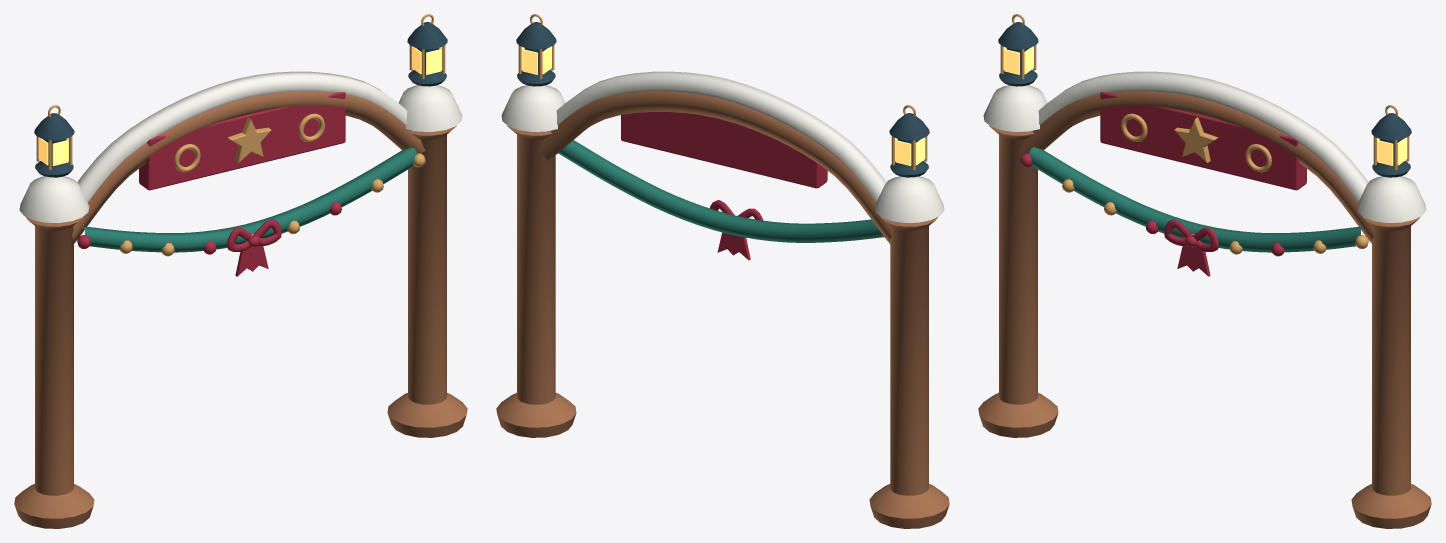
Rendered from gateway.glb.
The picture shows the model from 3 angles, left to right: view 1: azimuth 30°, elevation 25°; view 2: azimuth 150°, elevation 25°; view 3: azimuth 330°, elevation 25°; orthographic projection.
Parts seen in each view (by area): view 1: market-gateway; view 2: market-gateway; view 3: market-gateway.
Part boxes in pixels (x1,y1,x2,y2): market-gateway: (14,14,467,528); market-gateway: (496,14,949,528); market-gateway: (978,14,1431,528).
Size of the model in its own units: 3.92 by 3.45 by 0.6202.
